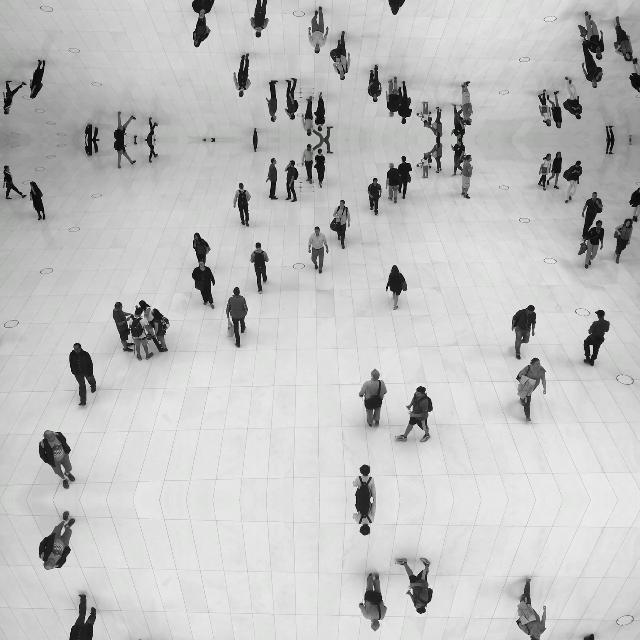person: (38, 430, 76, 490), (38, 510, 76, 570), (394, 386, 434, 442), (394, 558, 434, 614), (515, 357, 547, 423), (515, 577, 547, 640), (68, 342, 98, 406), (358, 368, 388, 428), (358, 572, 388, 632), (582, 309, 612, 367), (510, 304, 538, 360), (578, 220, 606, 270), (578, 10, 606, 60), (226, 287, 248, 349), (68, 594, 97, 640), (130, 308, 154, 362), (192, 259, 216, 309), (580, 192, 604, 240), (580, 40, 604, 88), (112, 301, 134, 353), (329, 199, 351, 249), (329, 31, 351, 81), (307, 226, 329, 274), (307, 6, 329, 54), (250, 242, 270, 294), (386, 265, 408, 311), (614, 15, 634, 62), (232, 182, 252, 228), (614, 218, 634, 264), (232, 52, 252, 98), (563, 76, 583, 120), (352, 464, 376, 500), (352, 500, 376, 536), (563, 160, 583, 203), (2, 165, 26, 199), (2, 81, 26, 115), (152, 308, 170, 352), (250, 0, 270, 38), (112, 140, 136, 170), (192, 232, 212, 268), (135, 300, 155, 336), (112, 110, 136, 140), (192, 12, 212, 48), (397, 156, 413, 200), (397, 80, 413, 124), (29, 181, 46, 221), (29, 59, 46, 99), (284, 160, 300, 202), (386, 162, 402, 204), (284, 78, 300, 120), (386, 76, 402, 118), (460, 154, 474, 200), (460, 80, 474, 126), (366, 177, 382, 215), (537, 153, 553, 191), (546, 151, 562, 189), (366, 65, 382, 103), (537, 89, 553, 127), (546, 91, 562, 129), (450, 140, 466, 177), (450, 104, 466, 140), (301, 143, 315, 184), (301, 96, 315, 136), (266, 157, 278, 200), (266, 80, 278, 122), (192, 0, 216, 21), (314, 148, 326, 188), (314, 92, 326, 132), (429, 140, 443, 174), (429, 106, 443, 140), (417, 100, 433, 128), (417, 153, 433, 180), (628, 187, 640, 223), (628, 57, 640, 93), (385, 0, 408, 15), (144, 116, 158, 140), (144, 140, 158, 163), (313, 140, 333, 154), (313, 126, 333, 140), (582, 633, 611, 640), (604, 140, 616, 154), (604, 126, 616, 140), (84, 140, 92, 156), (84, 124, 92, 140), (91, 140, 99, 152), (251, 140, 259, 152), (91, 128, 99, 140), (251, 128, 259, 140), (129, 638, 154, 640)
